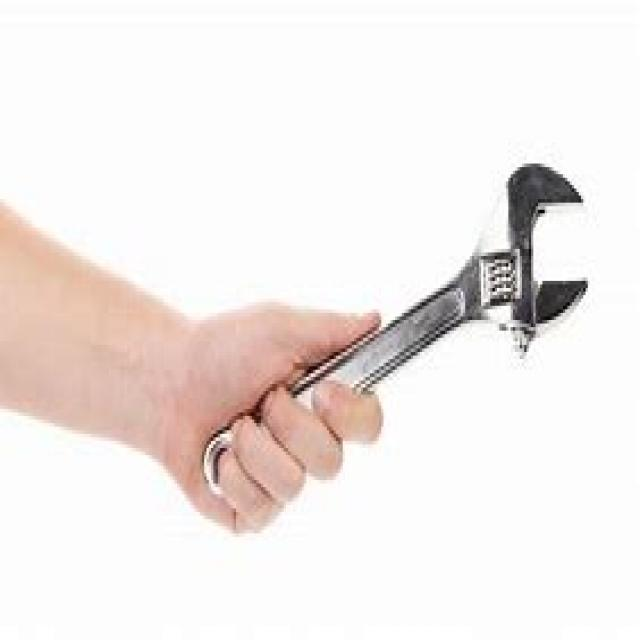wrench: (198, 158, 590, 501)
